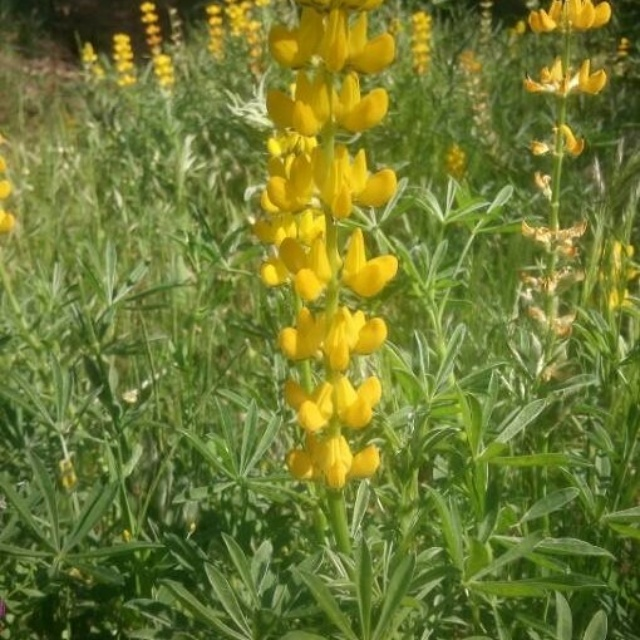obstacle: (182, 26, 457, 599), (457, 18, 622, 582)
